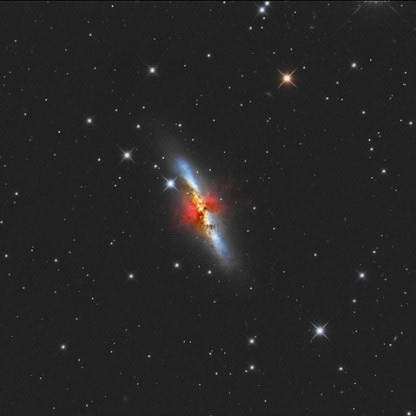Messier 82: (144, 136, 255, 288)
